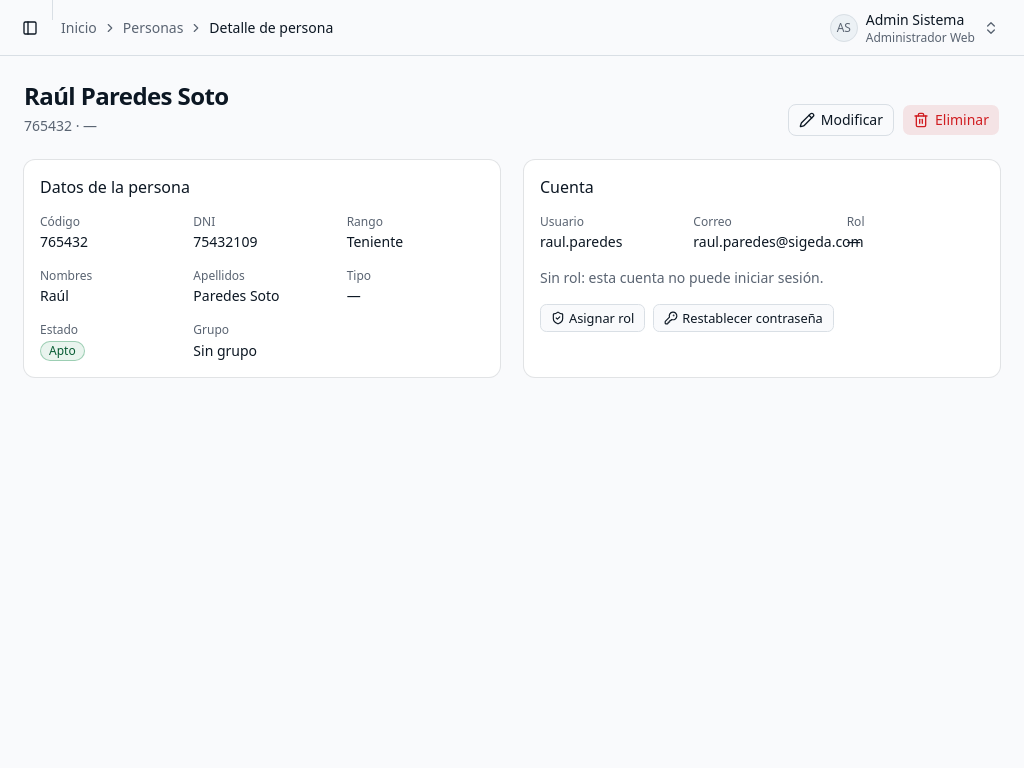
Scenario: Detalle de persona › CA-PER-08 asigna un rol compatible con el tipo y refleja el cambio
The width and height of the screenshot is (1024, 768).
Expected: the heading "Cuenta" is shown, [540,176,594,198]
Click the button "Asignar rol" at (593, 318), box [540,304,645,332]
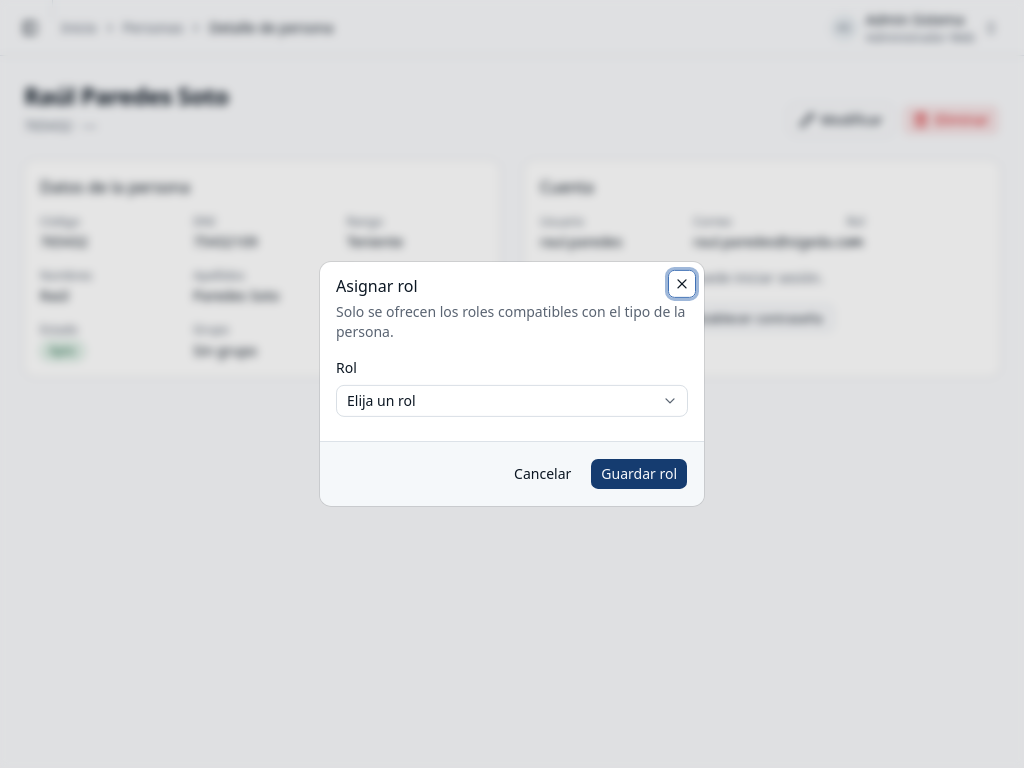
Result: the dropdown labelled "Rol" is shown
Select "Comandante de Escuadrón" in the dropdown labelled "Rol" at (512, 401), box [336,385,688,417]
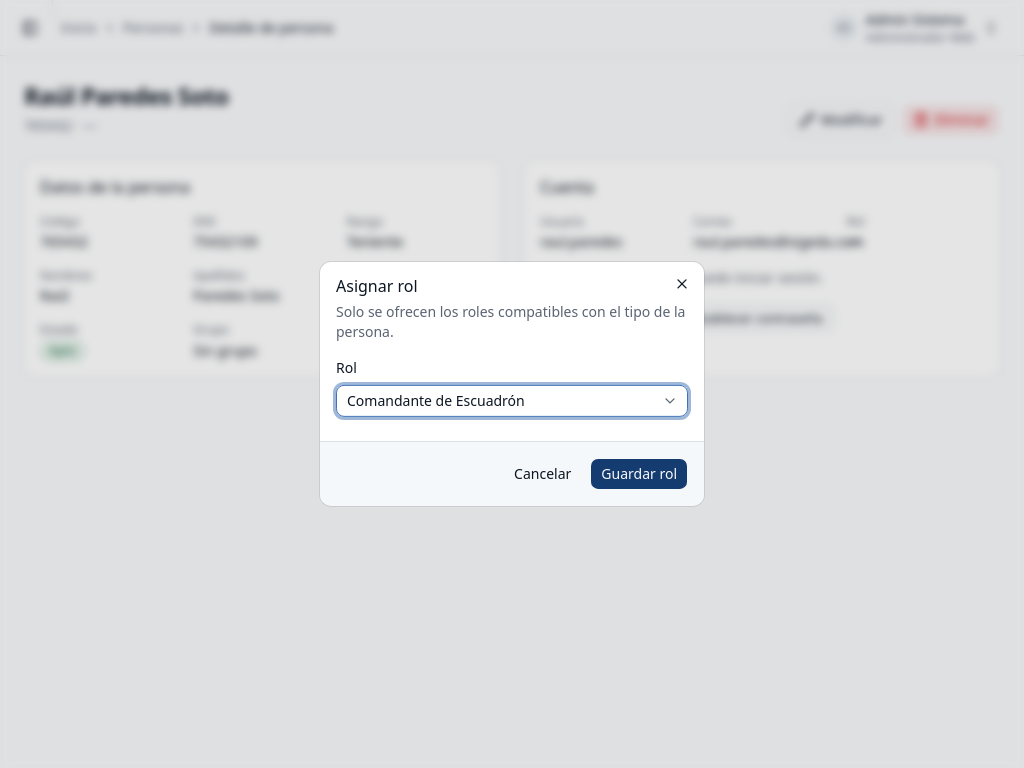
Click the button "Guardar rol" at (639, 474), box [590,458,688,490]
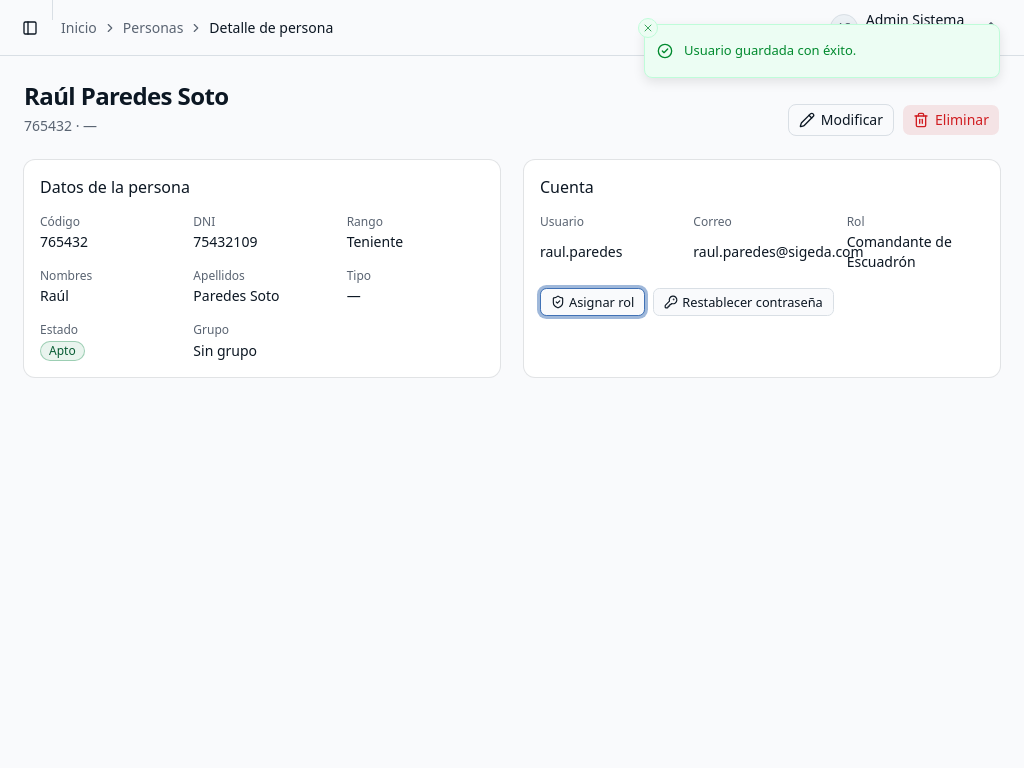
Result: the text "Usuario guardada con éxito." is shown at [684,41,856,60]
Result: the text "Comandante de Escuadrón" is shown at [847,232,952,271]
